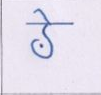e_matra: (33, 8, 53, 22)
